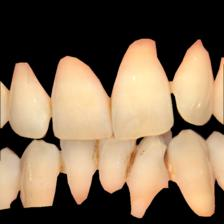cavity: (124, 146, 138, 178), (163, 146, 176, 177), (19, 159, 26, 191), (94, 141, 101, 170), (56, 152, 64, 173), (108, 96, 113, 127), (74, 195, 85, 203)
tooth: (112, 32, 179, 139), (49, 58, 114, 140), (169, 129, 218, 218), (127, 128, 171, 219), (174, 33, 213, 126), (10, 61, 50, 139), (22, 140, 60, 208), (63, 139, 101, 203), (100, 139, 134, 194), (1, 150, 19, 212)
